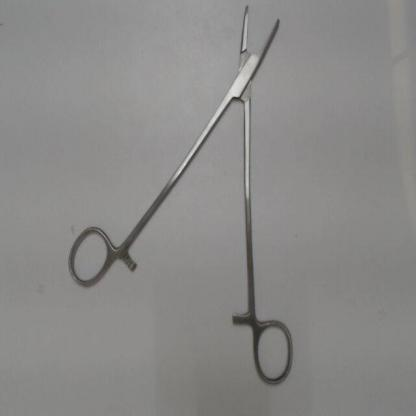8 Mayo Needle Holder: (58, 1, 298, 393)
